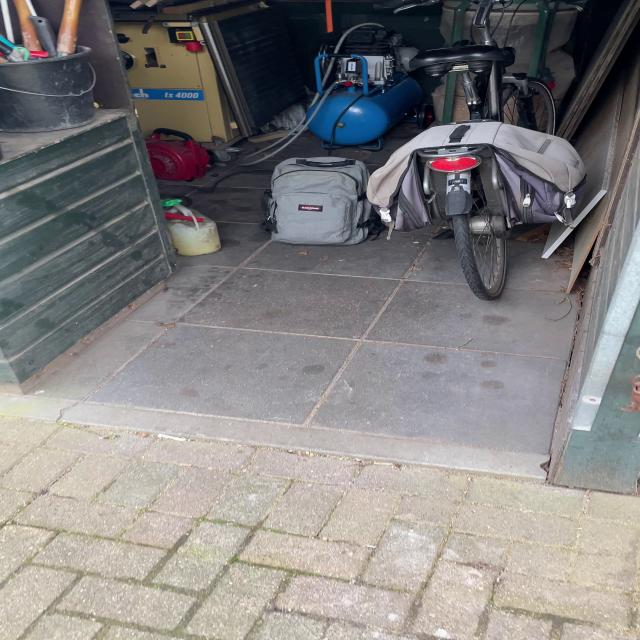backpack: (260, 152, 387, 249)
